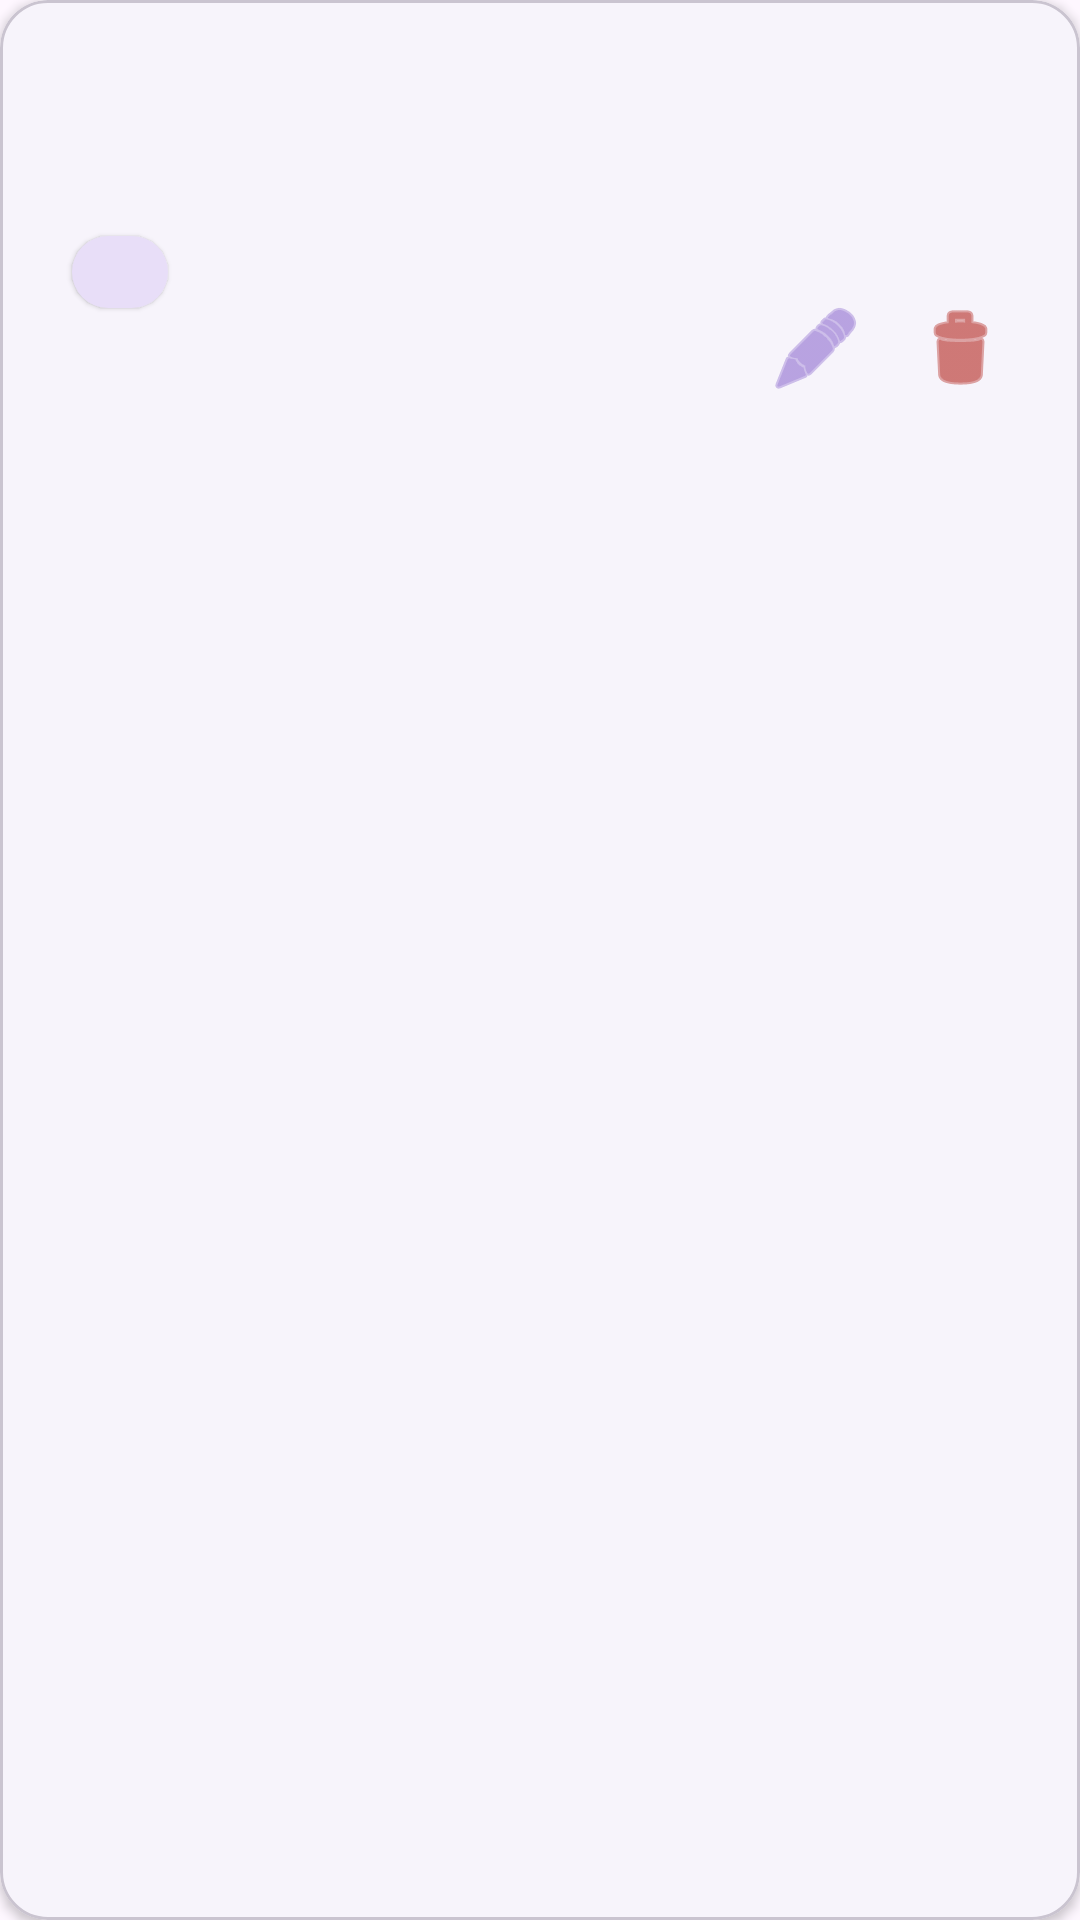

Named icons in this screenshot (1080x1920) and their centers, [x,y]:
Delete: [960,347]
Edit: [815,348]
